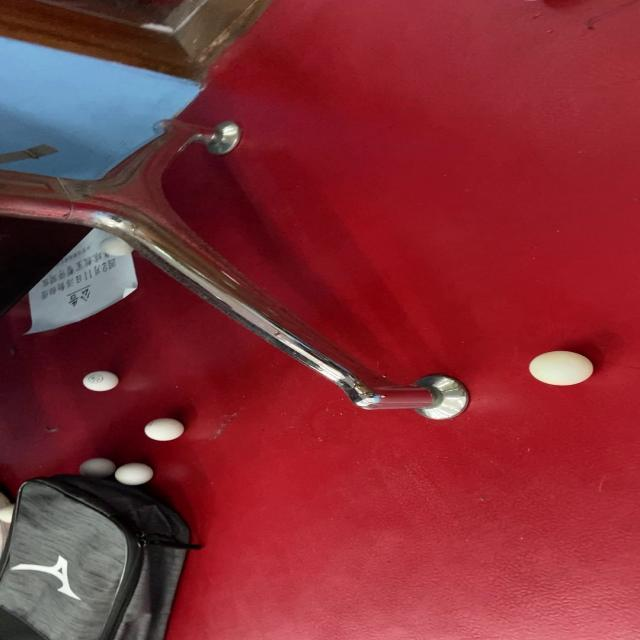ping-pong-ball: (524, 347, 602, 389), (106, 460, 162, 488), (138, 414, 189, 442), (80, 366, 122, 393), (98, 236, 138, 260)
